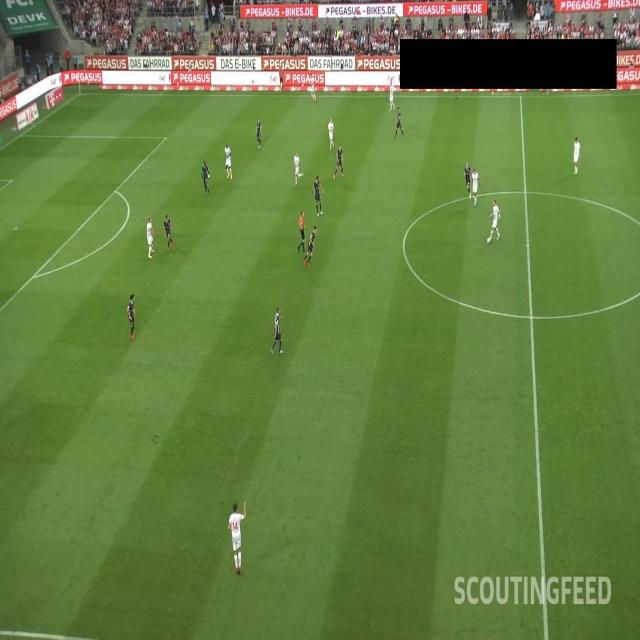ball: (486, 237, 491, 244)
